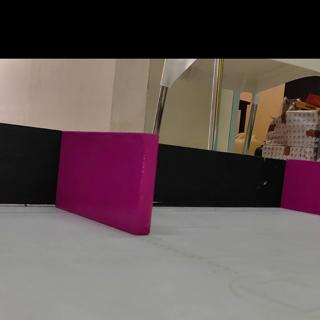xparking: (64, 134, 153, 229), (285, 163, 320, 210)
